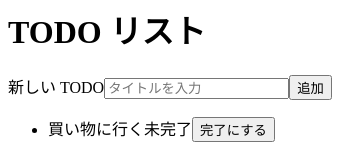
受入基準3: TODO 完了 › 完了ボタンを押すと PATCH され、一覧が完了状態に更新される
What coordinates should you click on to do the following:
click the button "完了にする"
I would click on:
 (233, 129)
Its box is [192,117,275,142].
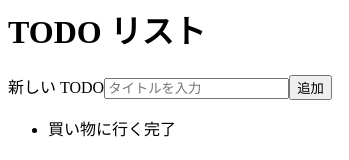
Expected: the text "完了" is shown, [144,121,176,138]
Now the button "完了にする" is gone
